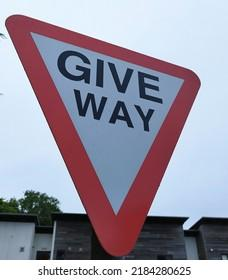Give Way: (8, 8, 219, 257)
